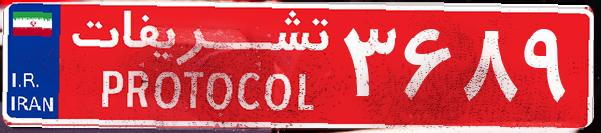3: (340, 20, 400, 115)
6: (400, 20, 460, 115)
8: (460, 20, 520, 115)
9: (520, 20, 580, 115)
تشریفات: (60, 8, 340, 125)
